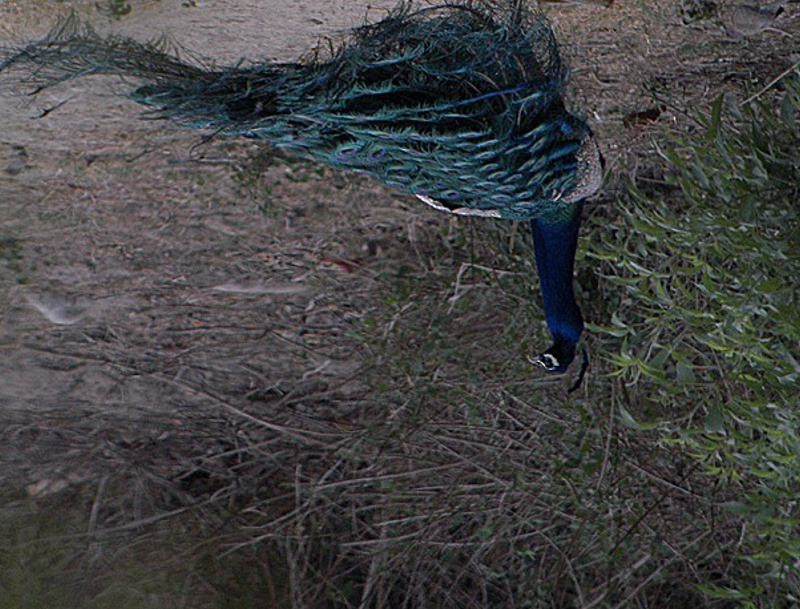peacock: (42, 1, 617, 381)
